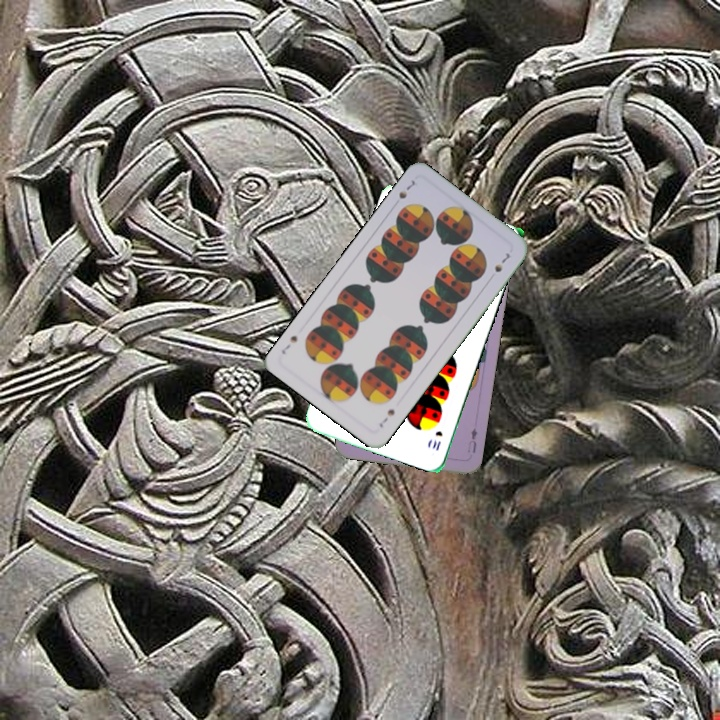EU: (463, 420, 480, 456)
S10: (428, 427, 445, 454)
S7: (395, 176, 418, 202), (375, 405, 398, 430)
